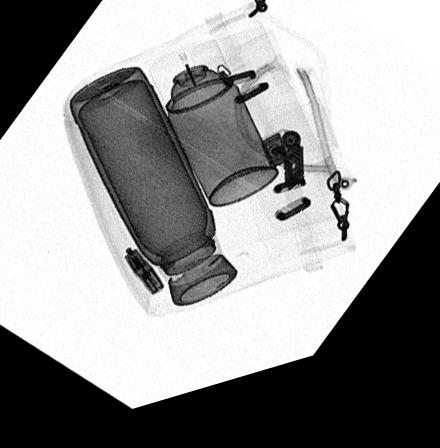Sprayer: (147, 52, 278, 218)
